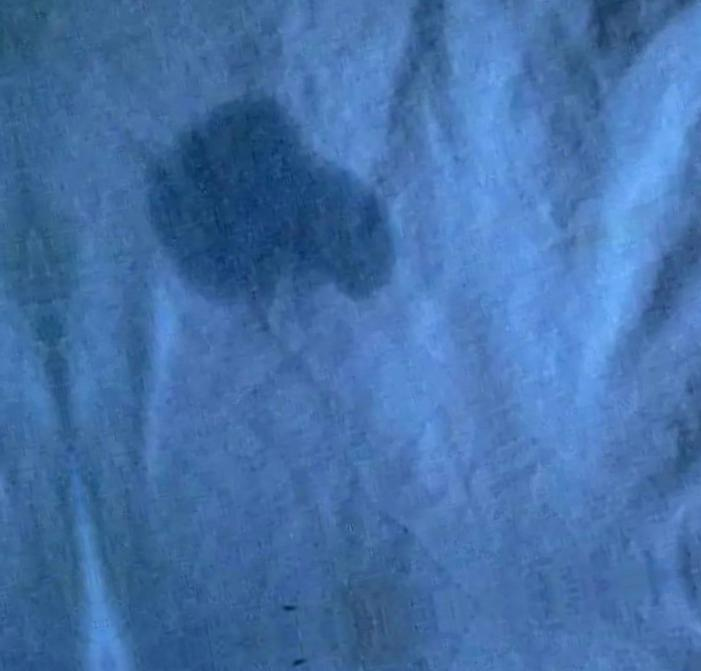stain: (138, 93, 404, 318)
